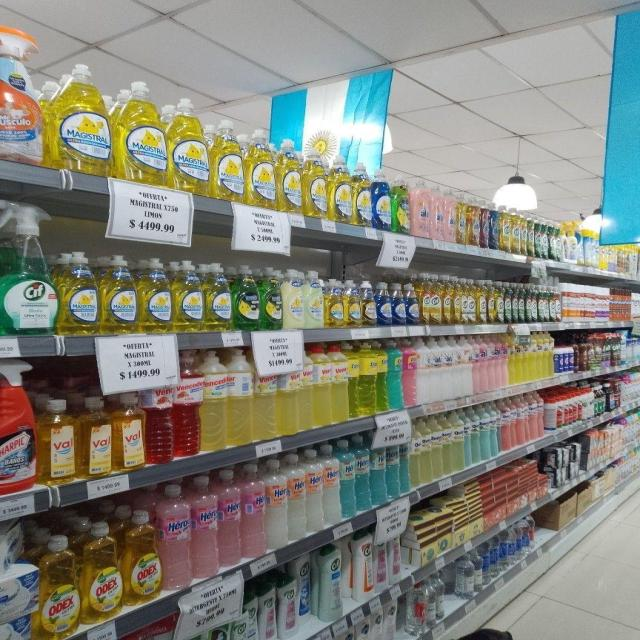ala_conc_amarillo: (468, 196, 480, 247), (457, 191, 467, 245)
ala_conc_azul: (480, 199, 490, 248), (490, 202, 500, 250)
ala_crem_blanco: (429, 337, 441, 402), (440, 337, 452, 400), (461, 336, 473, 396)
ala_crem_rosado: (472, 335, 480, 394)
cif_conc_bot_amarilla: (462, 276, 474, 324), (430, 273, 441, 325), (442, 273, 453, 325), (420, 272, 430, 325), (476, 279, 487, 324), (452, 276, 462, 325), (511, 205, 521, 254), (488, 280, 498, 324), (501, 204, 510, 252), (526, 211, 534, 257), (560, 285, 570, 321), (496, 280, 504, 324), (519, 206, 525, 255)
cif_conc_botella_verde: (393, 174, 410, 234), (551, 218, 563, 262), (537, 215, 548, 259), (526, 283, 537, 323), (538, 284, 548, 322), (549, 284, 558, 322), (505, 282, 513, 323), (518, 283, 526, 323)
heroe: (160, 482, 190, 590), (192, 474, 218, 579), (242, 462, 265, 559), (218, 468, 240, 568), (266, 457, 287, 549), (288, 452, 306, 541), (306, 448, 322, 535), (323, 444, 340, 525), (340, 439, 354, 519), (356, 436, 370, 512)
magistral_con_amarillo: (50, 63, 112, 174), (116, 80, 166, 184), (169, 97, 209, 194), (59, 251, 99, 335), (101, 254, 138, 334), (211, 119, 244, 201), (245, 126, 276, 208), (139, 257, 172, 333), (173, 260, 203, 332), (302, 138, 328, 218), (204, 261, 232, 331), (277, 136, 302, 213), (329, 158, 352, 222), (353, 162, 372, 226), (325, 277, 344, 328), (344, 279, 360, 328), (360, 280, 376, 327)
magistral_con_azul: (372, 169, 392, 230), (376, 281, 392, 326), (392, 282, 406, 326), (406, 280, 419, 326)
magistral_con_crema: (283, 268, 304, 329), (304, 270, 324, 328)
odex: (82, 520, 122, 622), (124, 509, 160, 604)
